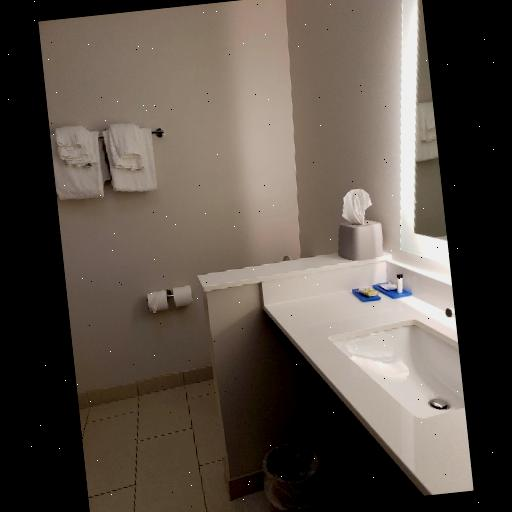clean_sink: (260, 244, 474, 493)
folded_towel: (48, 124, 108, 202), (104, 115, 162, 195)
